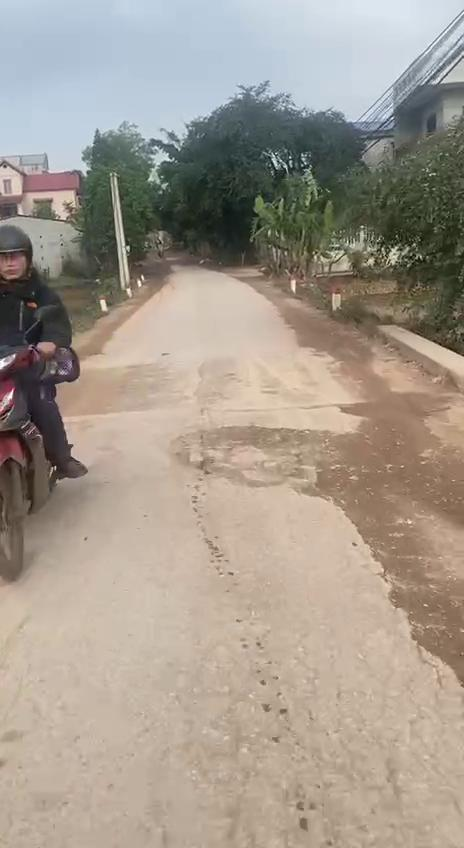pothole: (172, 422, 372, 494)
